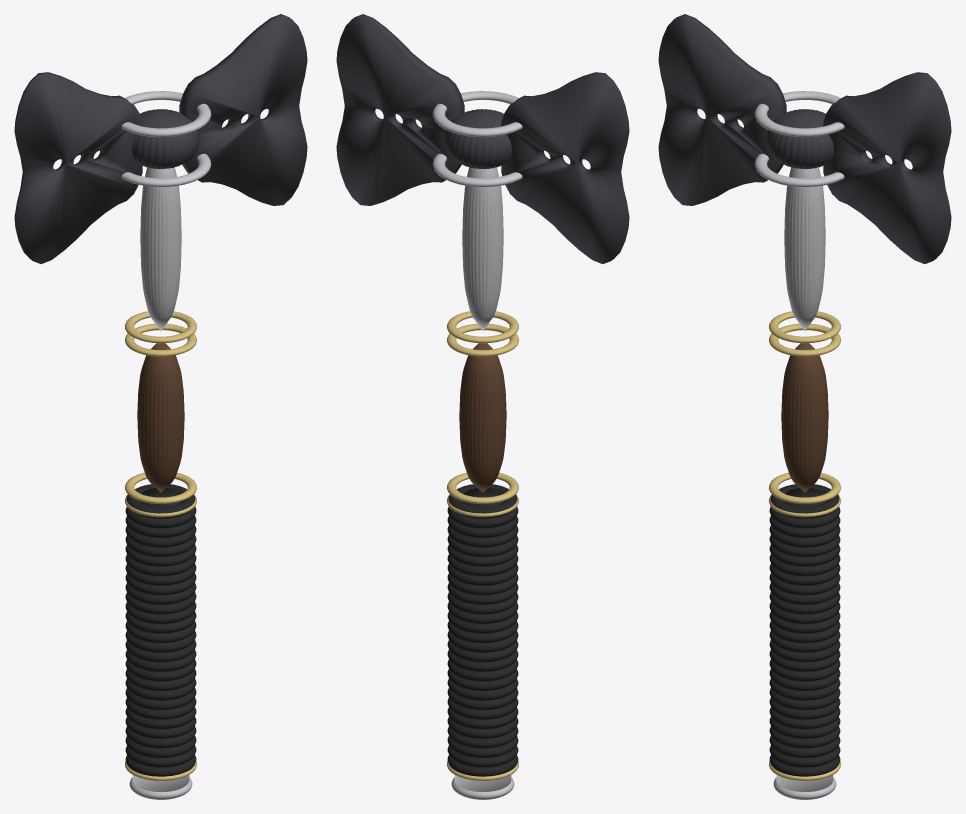
The model's file is human_weapon_battleaxe_v1.fbx.
3 renders of one model, left to right at view 1: azimuth 30°, elevation 25°; view 2: azimuth 150°, elevation 25°; view 3: azimuth 330°, elevation 25°, orthographic.
Visible parts, largest first — view 1: human_weapon_battleaxe_v1; view 2: human_weapon_battleaxe_v1; view 3: human_weapon_battleaxe_v1.
Part boxes in pixels (x1,y1,x2,y2): human_weapon_battleaxe_v1: [14, 14, 307, 799]; human_weapon_battleaxe_v1: [336, 14, 629, 799]; human_weapon_battleaxe_v1: [658, 14, 951, 799].
Bounding box in the file's own units: 0.342 × 0.838 × 0.1024.
